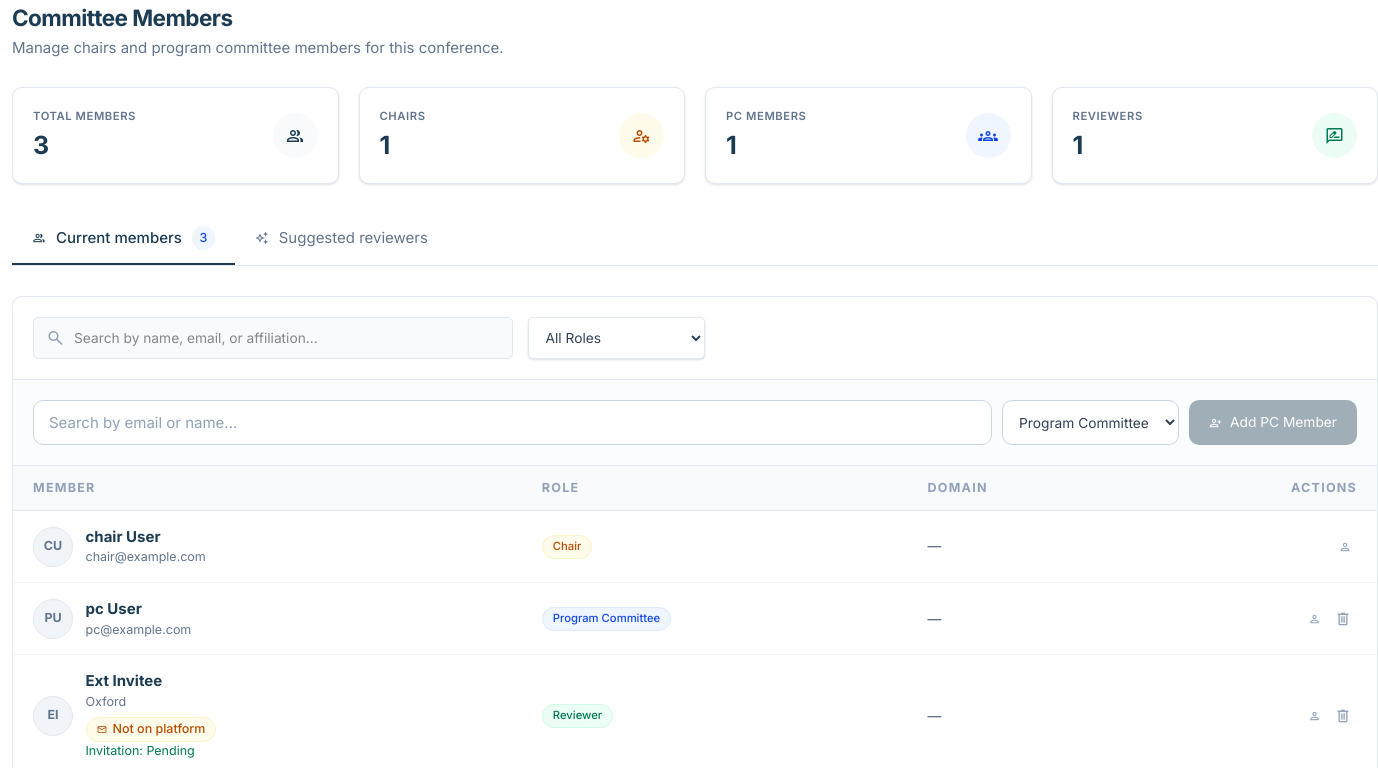
Scenario: ConferenceCommittee — profile links › exposes Semantic Scholar profile icon links in the search dropdown for external authors
Type "scholar" into the field with placeholder "Search by email or name..." at (512, 423), box [33,400,992,445]
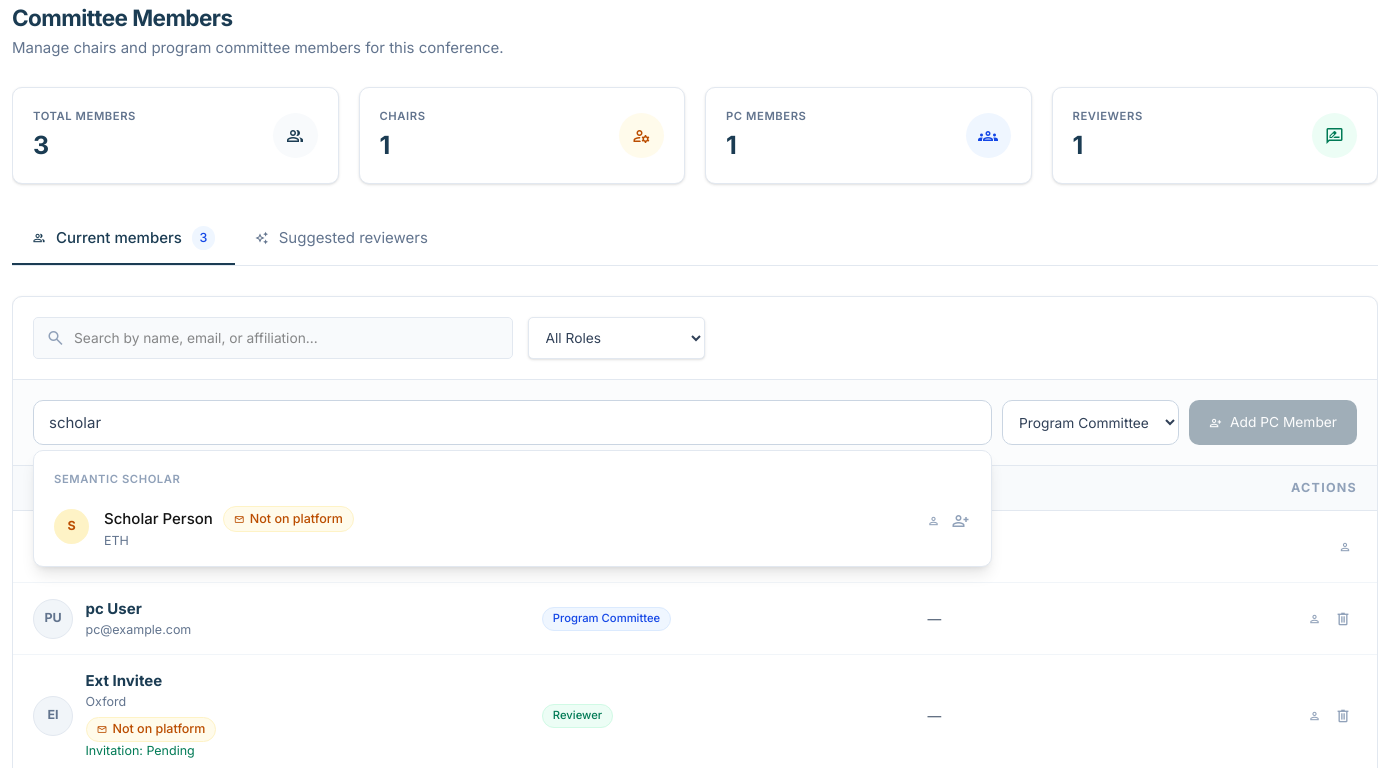
Now the text "Scholar Person" is shown, box [104,509,213,529]
